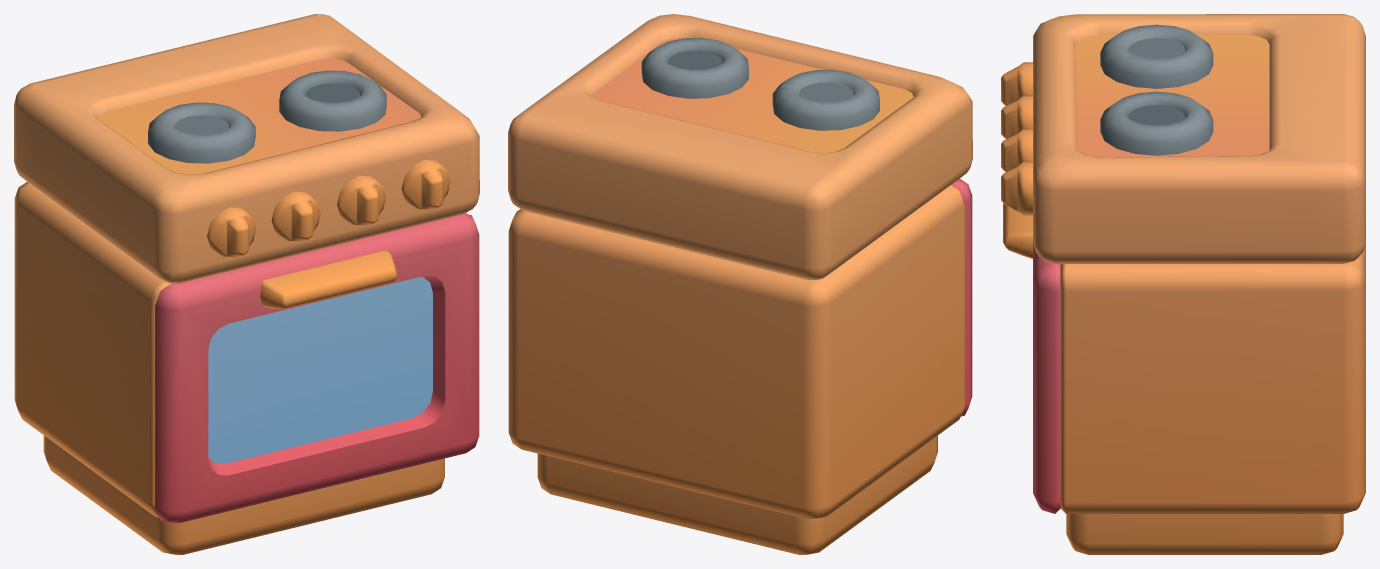
File: Kitchen_stove_001.fbx
3 views of the same model, side by side, from view 1: azimuth 30°, elevation 25°; view 2: azimuth 150°, elevation 25°; view 3: azimuth 270°, elevation 25° (orthographic). The views are drawn at different scales.
Parts seen in each view (by area): view 1: Kitchen_stove_001, Kitchen_stove_door_001; view 2: Kitchen_stove_001, Kitchen_stove_door_001; view 3: Kitchen_stove_001, Kitchen_stove_door_001.
Boxes of the visible parts, left/top/right/bottom form: Kitchen_stove_001: left=14, top=14, right=479, bottom=554; Kitchen_stove_door_001: left=155, top=214, right=479, bottom=522; Kitchen_stove_001: left=508, top=14, right=972, bottom=554; Kitchen_stove_door_001: left=951, top=178, right=972, bottom=416; Kitchen_stove_001: left=1001, top=14, right=1365, bottom=554; Kitchen_stove_door_001: left=1003, top=203, right=1060, bottom=513.
Size of the model in its own units: 0.744 by 0.8736 by 0.6987.
